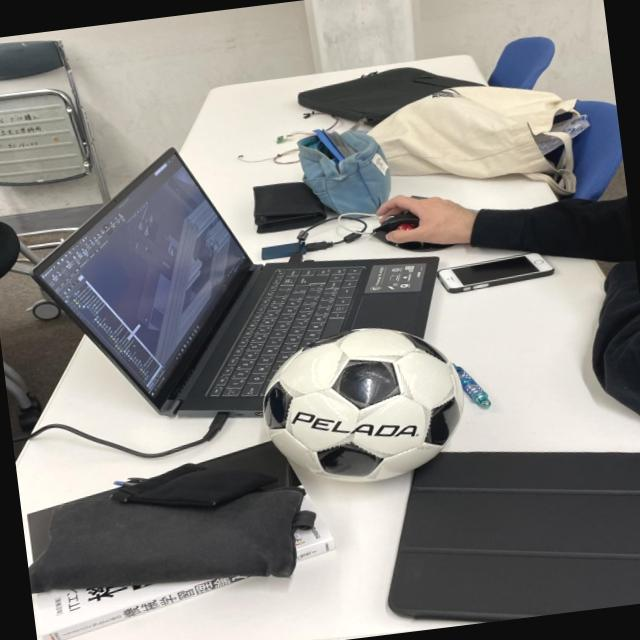Soccer Ball: (251, 316, 472, 498)
